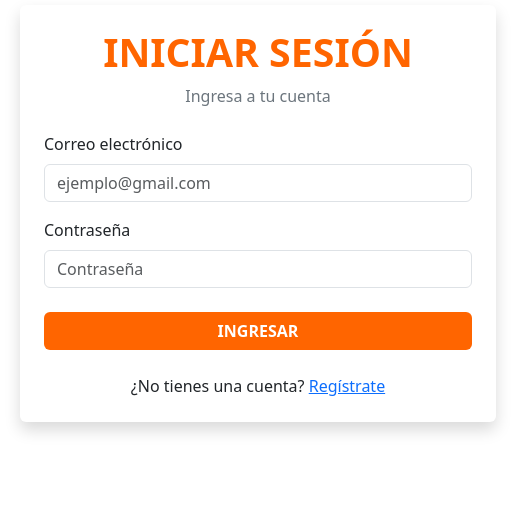
Test case: Acceso, registro y roles › 2. Rechaza un correo que no está registrado
This screenshot has width=517, height=525.
Step 1. Type "desconocido@gmail.com" into the field labelled "Correo electrónico" → {"x": 258, "y": 183}, box [44,164,472,202]
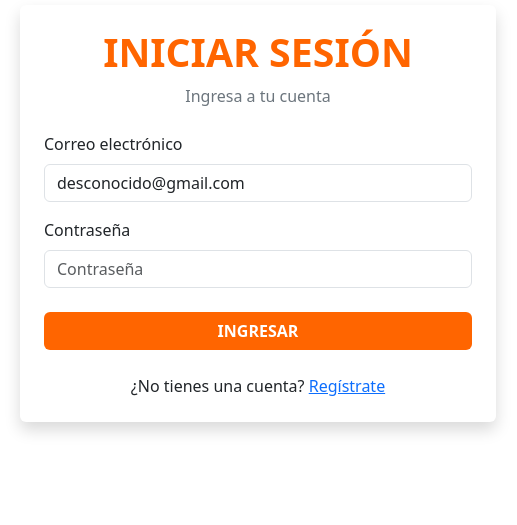
Step 2. Type "1234" into the password field labelled "Contraseña" → {"x": 258, "y": 269}, box [44,250,472,288]
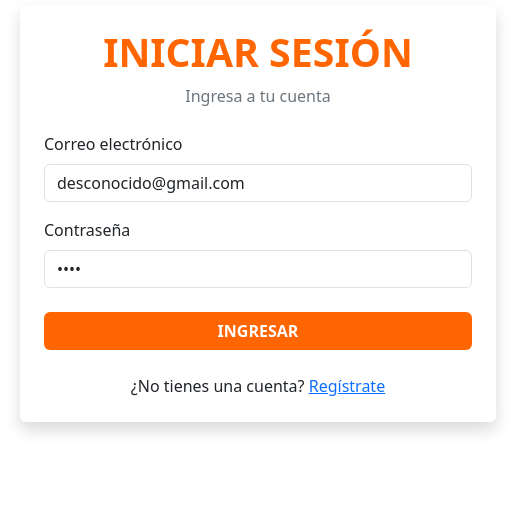
Step 3. Click the button "INGRESAR" → {"x": 258, "y": 331}, box [44,312,472,350]
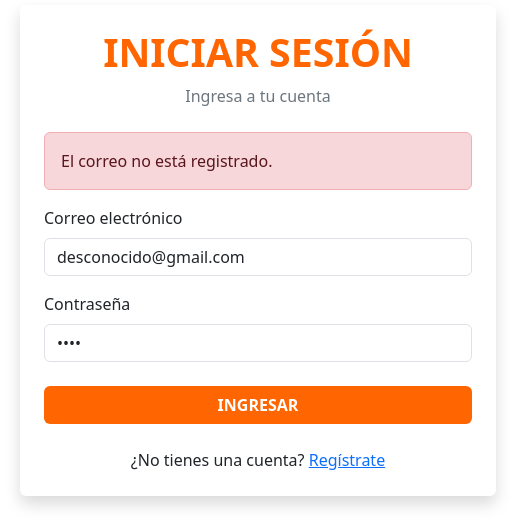
Now the text "El correo no está registrado." is shown, box [44,132,472,190]
